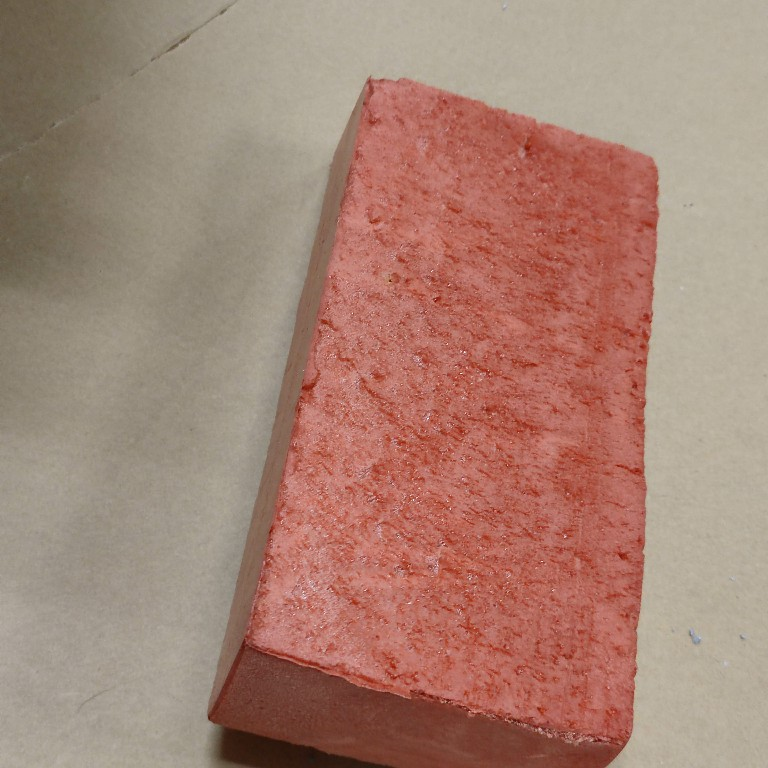brick: (207, 74, 664, 768)
